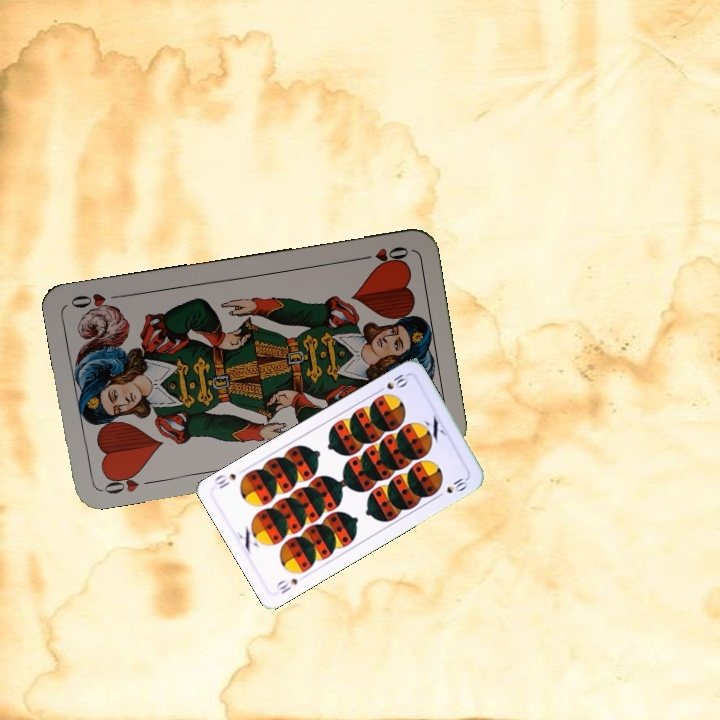HO: (353, 242, 411, 267), (97, 467, 143, 497)
S10: (373, 369, 411, 396), (272, 574, 300, 596)
